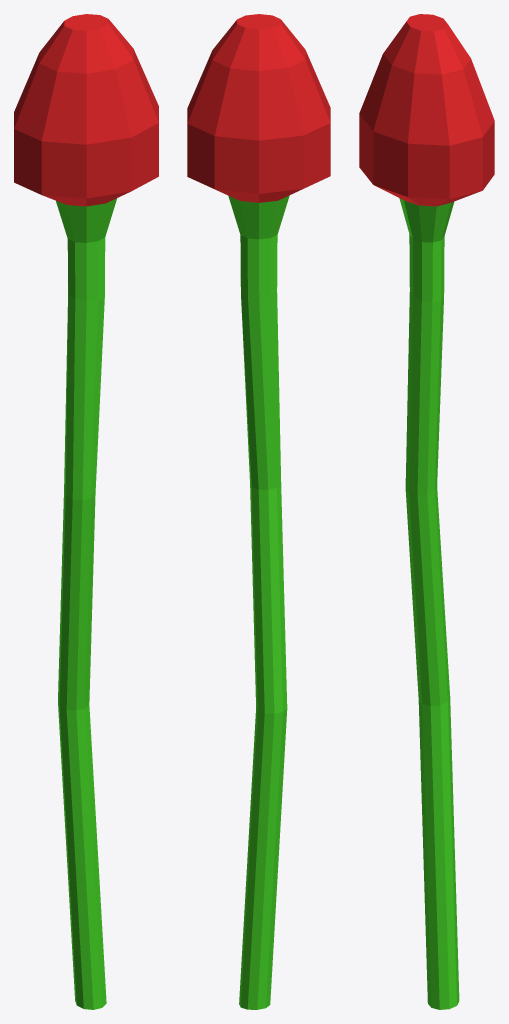
Rendered from FlowerRed.fbx.
The picture shows the model from 3 angles, left to right: view 1: azimuth 30°, elevation 25°; view 2: azimuth 210°, elevation 25°; view 3: azimuth 330°, elevation 25°; orthographic projection.
Parts seen in each view (by area): view 1: FlowerRed01; view 2: FlowerRed01; view 3: FlowerRed01.
Part boxes in pixels (x1,y1,x2,y2): FlowerRed01: [14, 14, 158, 1009]; FlowerRed01: [187, 14, 330, 1009]; FlowerRed01: [359, 14, 494, 1009].
Bounding box in the file's own units: 30.45 × 224 × 26.26.
